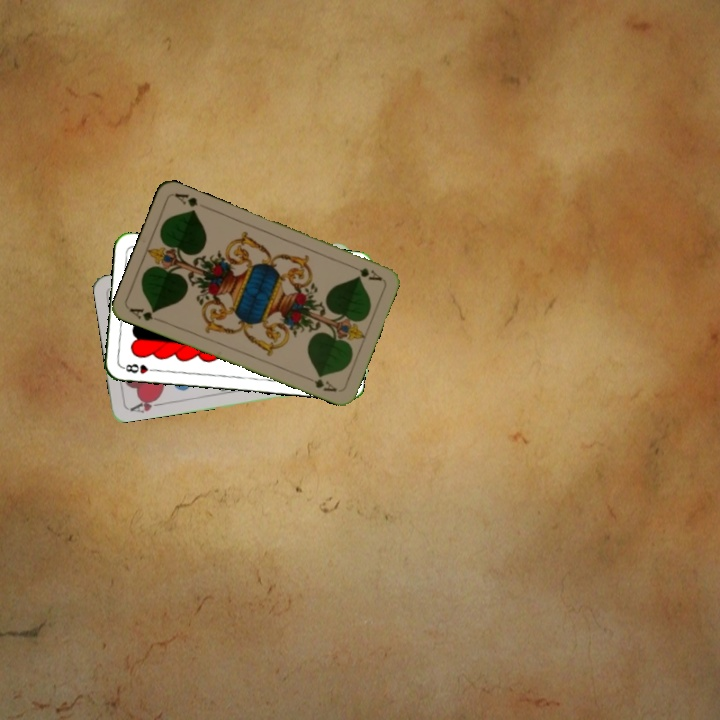GA: (346, 261, 385, 284), (126, 304, 165, 325)
H8: (119, 360, 159, 376)
HA: (126, 393, 166, 415)
